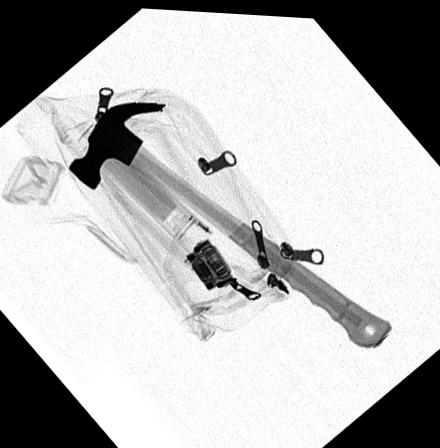Hammer: (67, 99, 393, 343)
